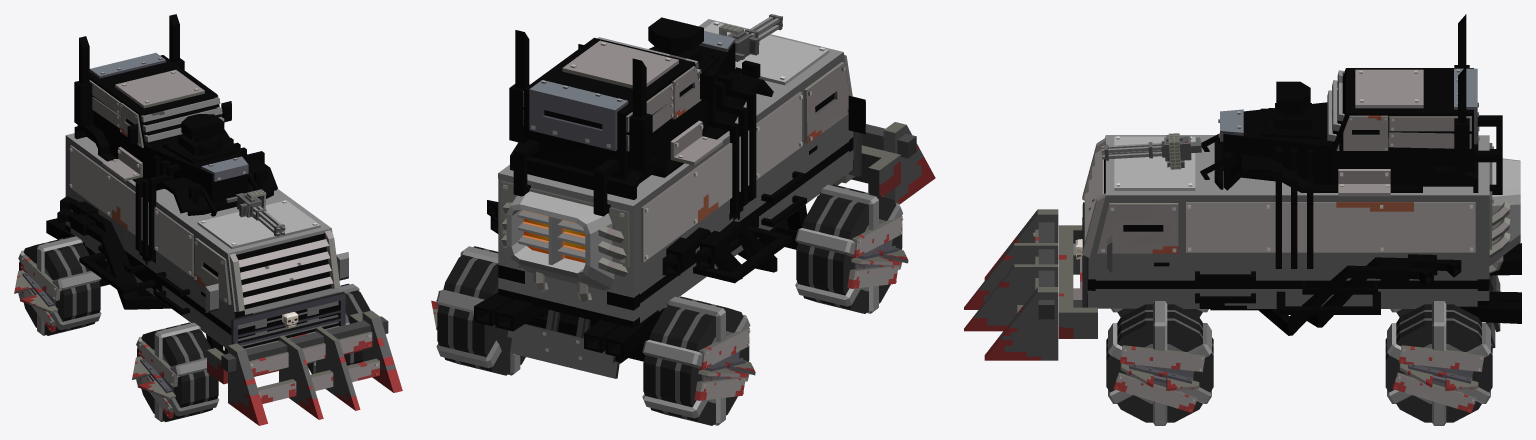
Rendered from 000_SA_Veh_BigMonsterTruck.glb.
The picture shows the model from 3 angles, left to right: view 1: azimuth 30°, elevation 25°; view 2: azimuth 150°, elevation 25°; view 3: azimuth 270°, elevation 25°; orthographic projection. The views are drawn at different scales.
Parts seen in each view (by area): view 1: Body, bmt_armor_5, bmt_armor_2_part_A, bmt_armor_4_part_F_R, bmt_Wheel_C_3gr (×2), SA_Veh_BigMonsterTruck_Wheel_FR, SA_Veh_BigMonsterTruck_Wheel_BR, bmt_armor_4_part_A, bmt_armor_4_part_D, bmt_Wheel_C_2gr (×2), bmt_Wheel_C_1gr (×2), bmt_armor_3_part_A_R (+9 smaller); view 2: Body, bmt_Nitro, bmt_armor_4_part_F_R, bmt_Wheel_C_3gr (×3), SA_Veh_BigMonsterTruck_Wheel_FR, SA_Veh_BigMonsterTruck_Wheel_BR, SA_Veh_BigMonsterTruck_Wheel_BL, bmt_armor_3_part_C, bmt_Wheel_C_2gr (×2), bmt_armor_4_part_B, bmt_armor_4_part_D, bmt_armor_5 (+11 smaller); view 3: Body, bmt_armor_4_part_F_L, bmt_armor_5, bmt_Wheel_C_2gr (×2), SA_Veh_BigMonsterTruck_Wheel_BL, bmt_Wheel_C_3gr (×2), SA_Veh_BigMonsterTruck_Wheel_FL, bmt_armor_3_part_A_L, bmt_armor_1, bmt_armor_4_part_A, bmt_armor_4_part_D, bmt_Wheel_C_1gr (×2) (+9 smaller).
Part boxes in pixels (x1,y1,x2,y2): Body: (46,14,348,354); bmt_armor_5: (221,310,402,425); bmt_armor_2_part_A: (229,230,345,345); bmt_armor_4_part_F_R: (69,145,193,276); bmt_Wheel_C_3gr (×2): (18,236,218,421); SA_Veh_BigMonsterTruck_Wheel_FR: (137,322,218,422); SA_Veh_BigMonsterTruck_Wheel_BR: (19,236,100,335); bmt_armor_4_part_A: (197,200,320,248); bmt_armor_4_part_D: (115,69,204,108); bmt_Wheel_C_2gr (×2): (20,254,178,418); bmt_Wheel_C_1gr (×2): (14,270,175,399); bmt_armor_3_part_A_R: (194,238,231,304); Body: (474,17,865,363); bmt_Nitro: (499,191,627,302); bmt_armor_4_part_F_R: (641,91,802,262); bmt_Wheel_C_3gr (×3): (436,184,902,425); SA_Veh_BigMonsterTruck_Wheel_FR: (796,184,902,313); SA_Veh_BigMonsterTruck_Wheel_BR: (643,296,749,425); SA_Veh_BigMonsterTruck_Wheel_BL: (437,246,525,375); bmt_armor_3_part_C: (529,80,628,151); bmt_Wheel_C_2gr (×2): (694,216,903,400); bmt_armor_4_part_B: (507,310,619,378); bmt_armor_4_part_D: (562,40,678,88); bmt_armor_5: (831,122,935,204); Body: (1087,14,1521,335); bmt_armor_4_part_F_L: (1186,202,1475,252); bmt_armor_5: (964,209,1058,360); bmt_Wheel_C_2gr (×2): (1113,345,1484,412); SA_Veh_BigMonsterTruck_Wheel_BL: (1385,304,1492,422); bmt_Wheel_C_3gr (×2): (1108,301,1490,425); SA_Veh_BigMonsterTruck_Wheel_FL: (1106,304,1213,422); bmt_armor_3_part_A_L: (1097,203,1178,253); bmt_armor_1: (1058,225,1097,338); bmt_armor_4_part_A: (1114,136,1195,190); bmt_armor_4_part_D: (1355,69,1423,108); bmt_Wheel_C_1gr (×2): (1120,363,1478,391).
Size of what is drawn, in the model's own units: 5.69 by 6.16 by 9.51.
Materials: 1 (1 with a texture image).
